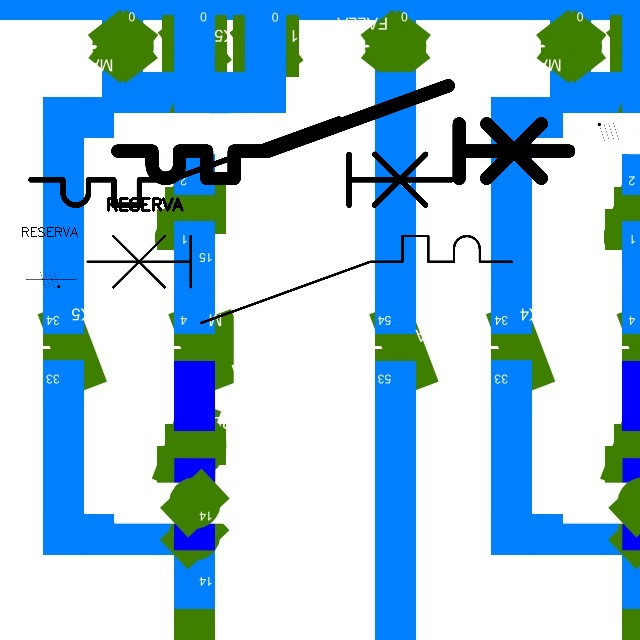interruptor_termomagnetico: (106, 74, 581, 190), (76, 225, 523, 334), (20, 108, 462, 216)
